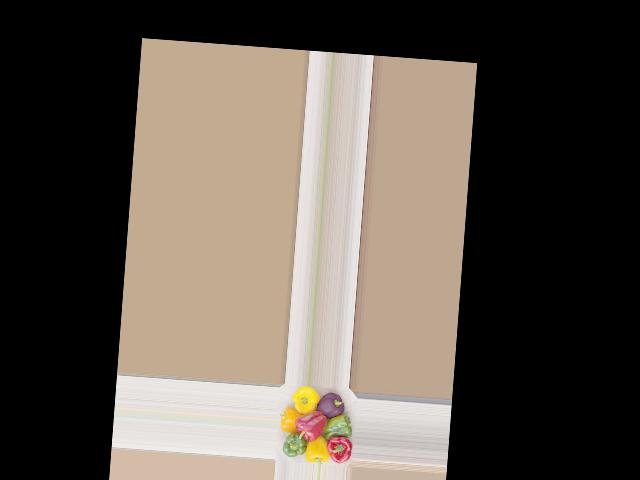bell_pepper: (315, 392, 352, 424)
